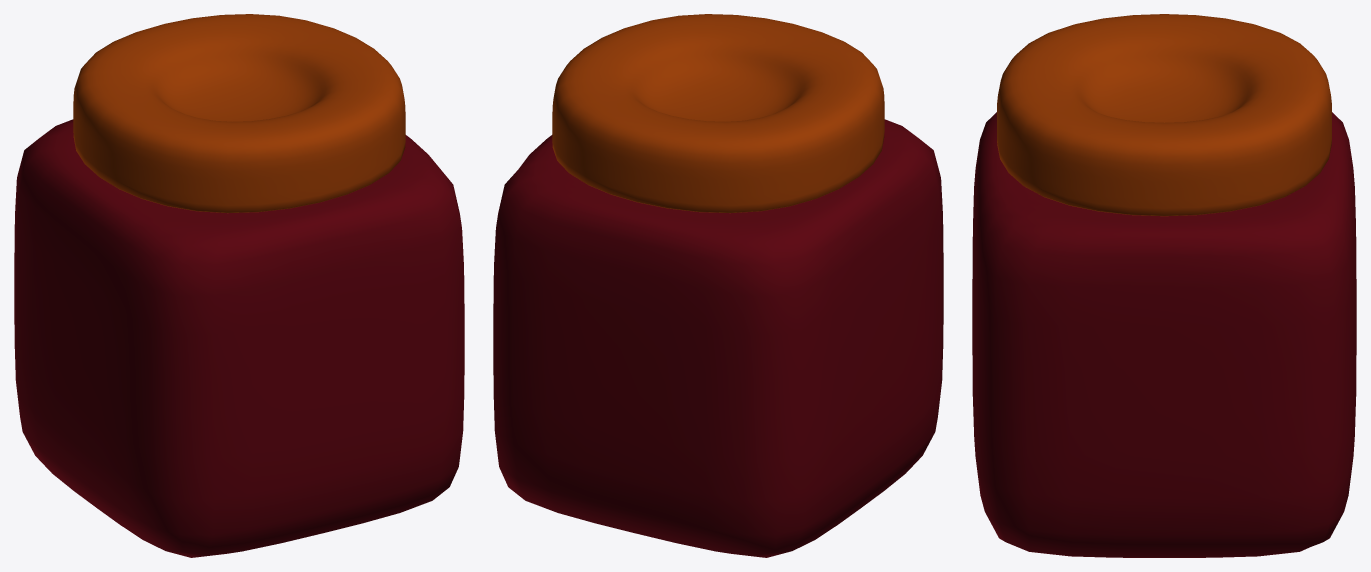
File: SuperPotion.fbx
3 views of the same model, side by side, from view 1: azimuth 30°, elevation 25°; view 2: azimuth 150°, elevation 25°; view 3: azimuth 270°, elevation 25° (orthographic). The views are drawn at different scales.
Visible parts, largest first — view 1: Cube.001; view 2: Cube.001; view 3: Cube.001.
Boxes of the visible parts, <box> form: Cube.001: <box>14,14,464,557</box>; Cube.001: <box>493,14,943,557</box>; Cube.001: <box>972,14,1356,557</box>.
Bounding box in the file's own units: 200 × 246 × 200.
